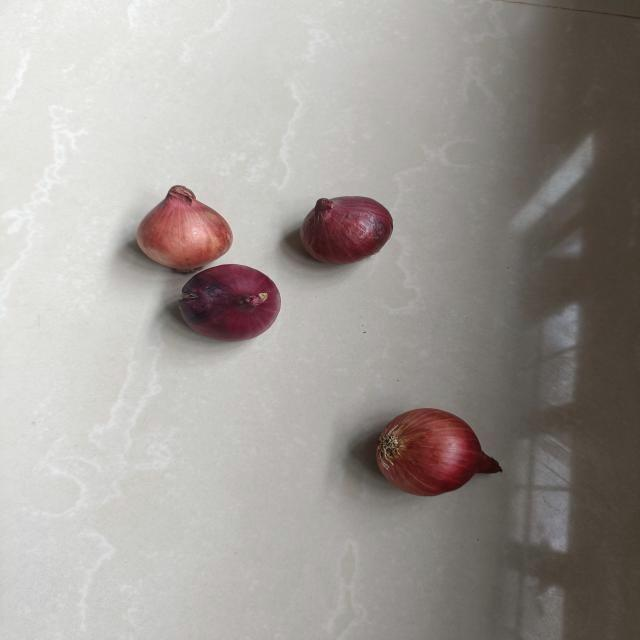onion: (369, 406, 506, 498), (133, 182, 235, 276), (177, 262, 283, 345), (297, 192, 398, 268)
